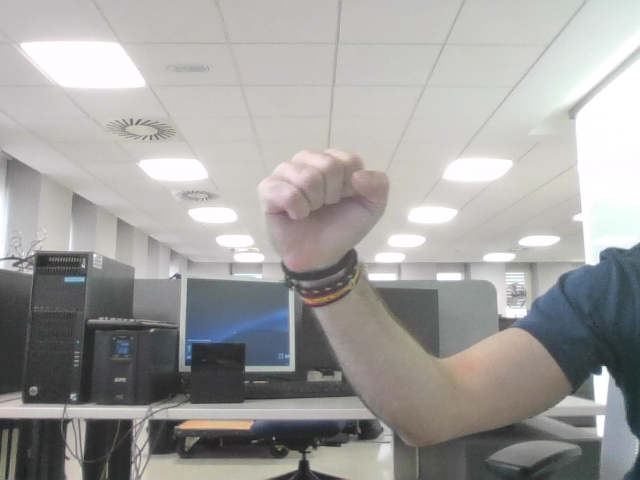Puño: (270, 159, 375, 237)
